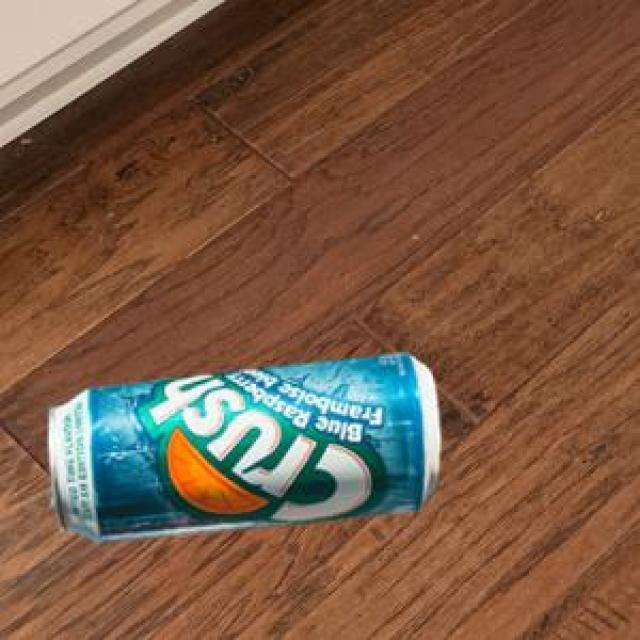Can: (46, 351, 436, 539)
